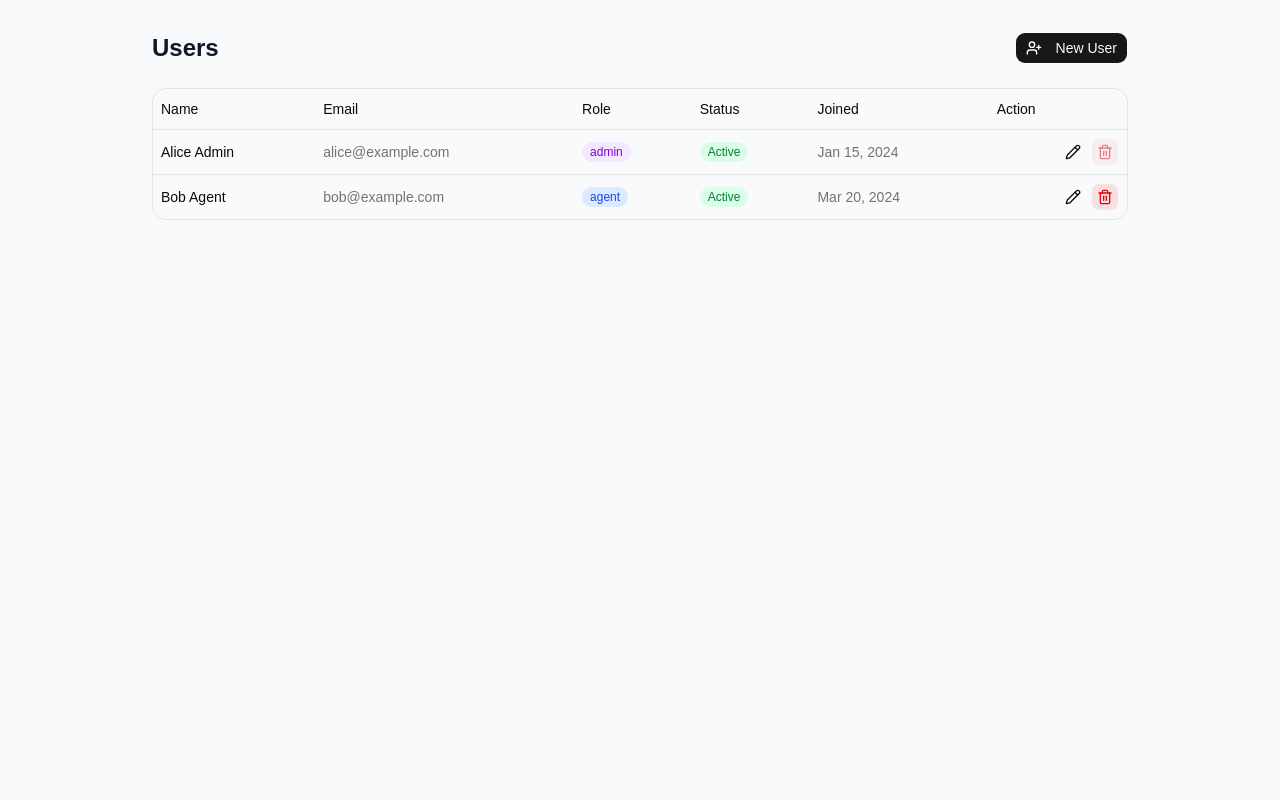
Test: UsersPage › Delete user flow › opens a confirmation dialog showing the user's name
The width and height of the screenshot is (1280, 800).
Expected: the text "Bob Agent" is shown, [153, 174, 315, 218]
Click the button titled "Delete user" at (1105, 196), box [1091, 182, 1119, 210]
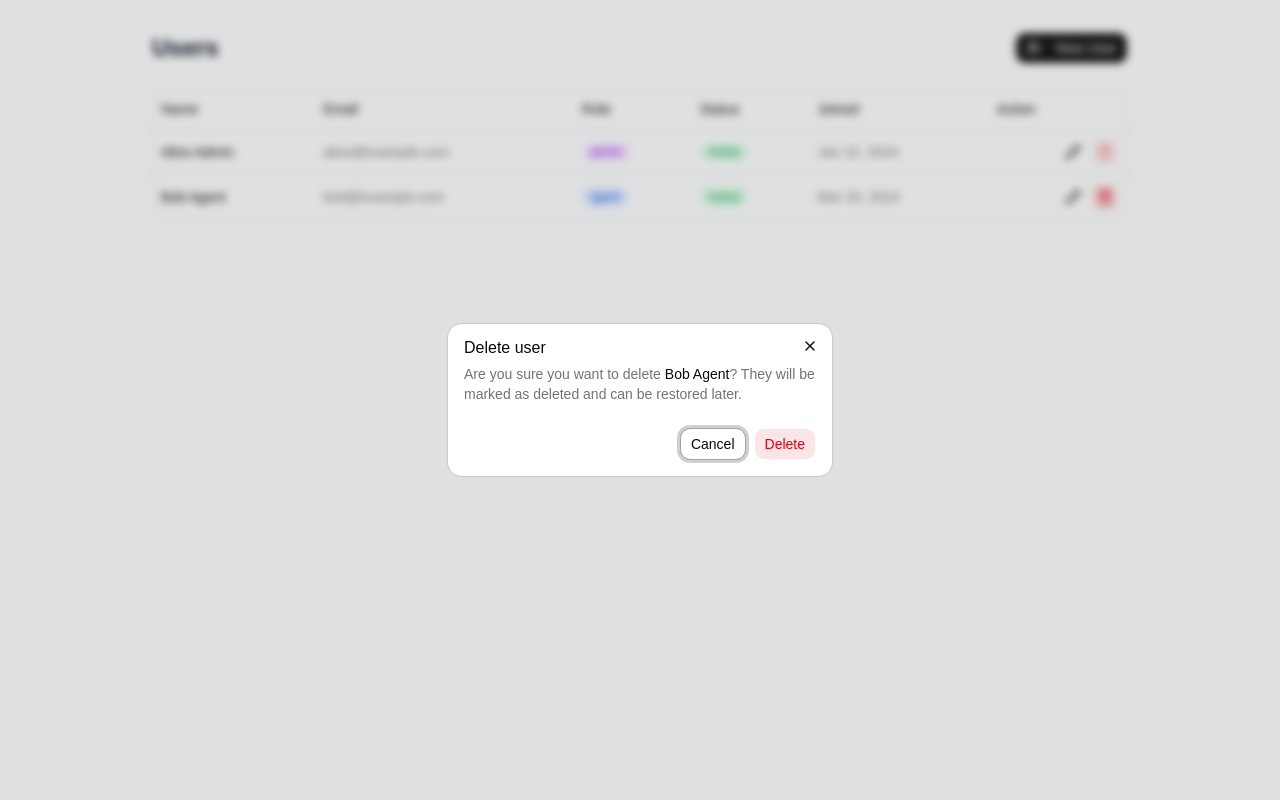
Expected: the text "Bob Agent" is shown, [153, 174, 315, 218]
Expected: the text "Are you sure you want to delete" is shown, [464, 366, 661, 382]
